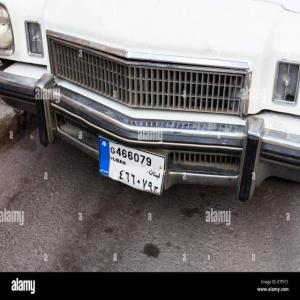Plate: (99, 137, 166, 195)
